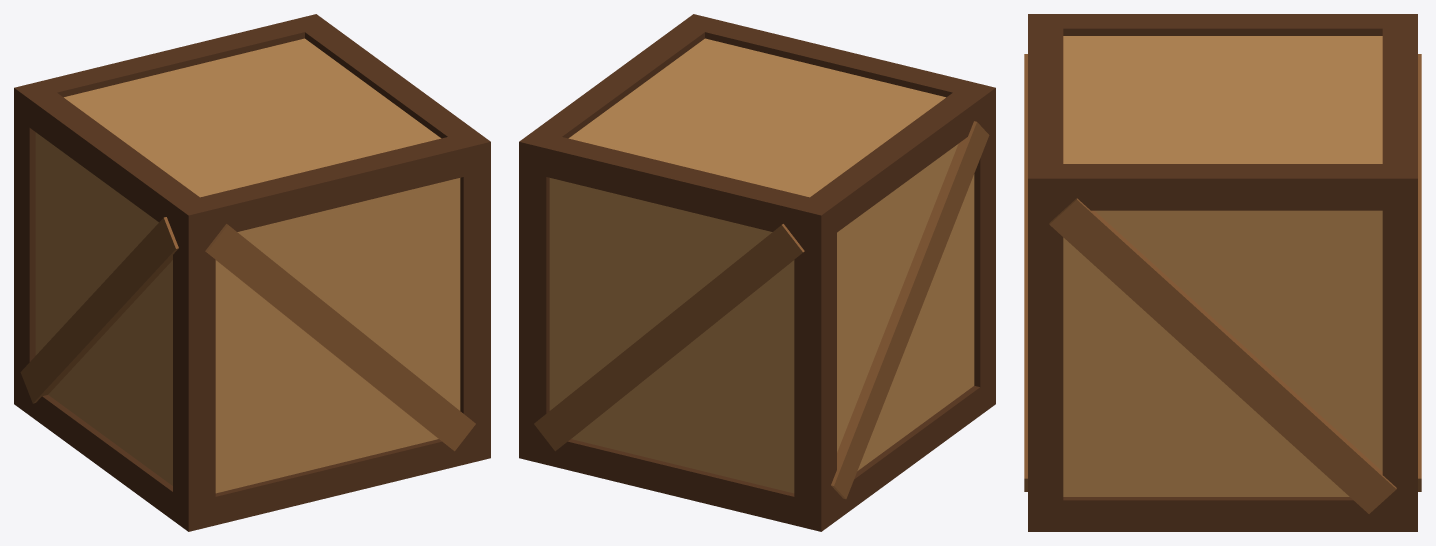
File: Crate.glb
The picture shows the model from 3 angles, left to right: view 1: azimuth 30°, elevation 25°; view 2: azimuth 150°, elevation 25°; view 3: azimuth 270°, elevation 25°; orthographic projection. The views are drawn at different scales.
Visible parts, largest first — view 1: Crate; view 2: Crate; view 3: Crate.
Boxes of the visible parts, left/top/right/bottom form: Crate: left=14, top=14, right=490, bottom=531; Crate: left=519, top=14, right=995, bottom=531; Crate: left=1024, top=14, right=1421, bottom=531.
Bounding box in the file's own units: 1.02 × 1 × 1.02.
Materials: 1 (1 with a texture image).
